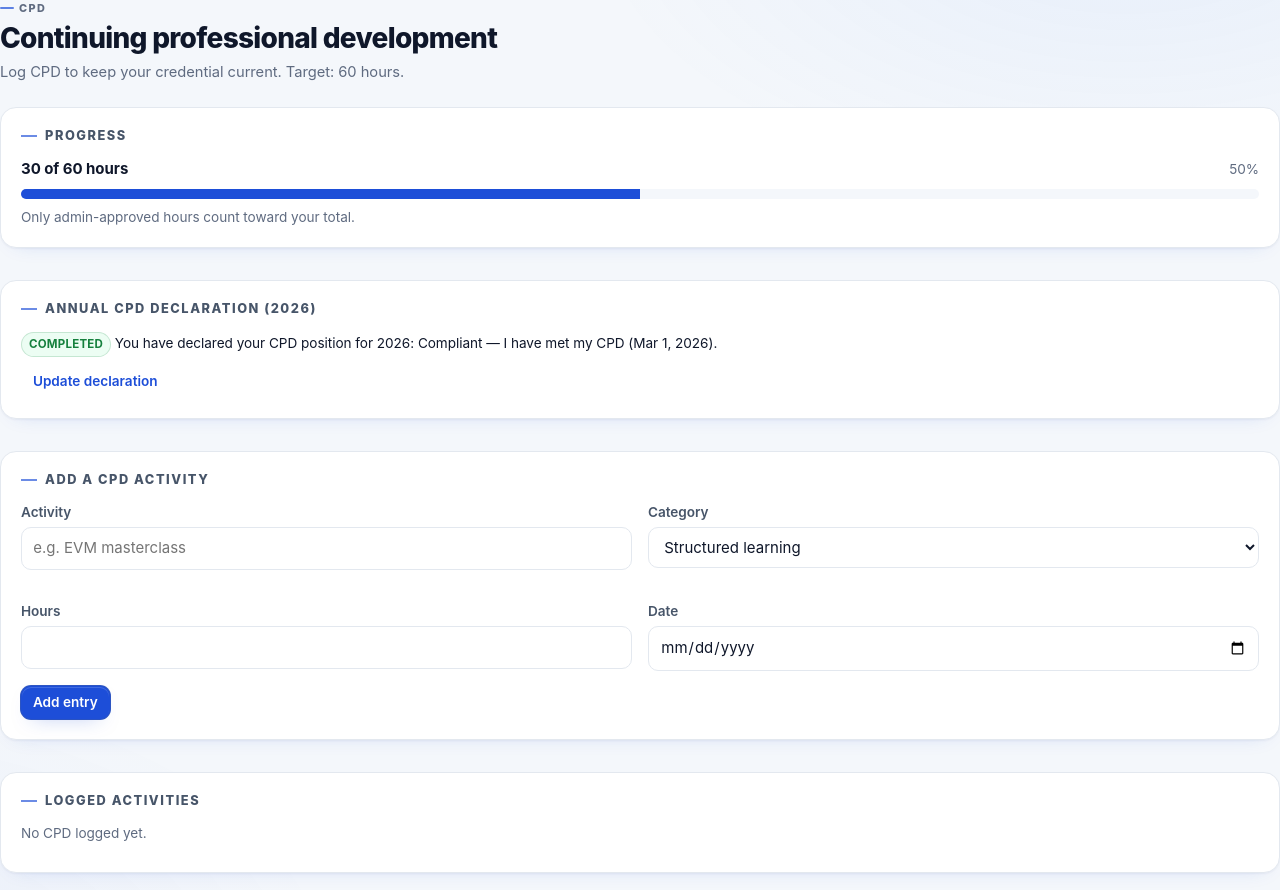
Test case: Cpd (continuing professional development) › shows a read-only summary once the year is declared, then reopens the form on request
Expected: the text "Compliant — I have met my CPD" is shown, [410,334,625,350]
Step 1. Click the button "Update declaration" → (95, 381), box [21,365,170,398]
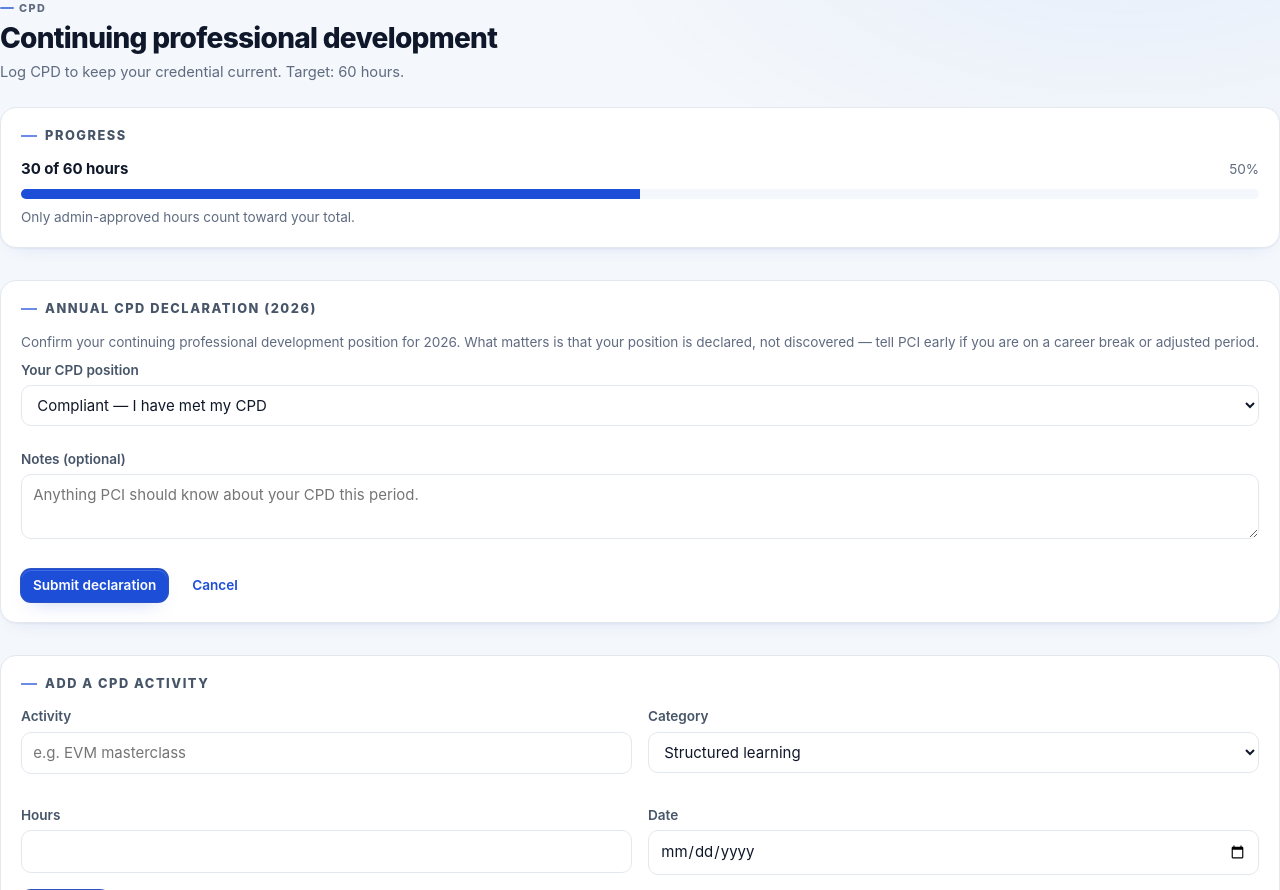
Expected: the dropdown labelled "Your CPD position" is shown, [21,385,1259,426]
